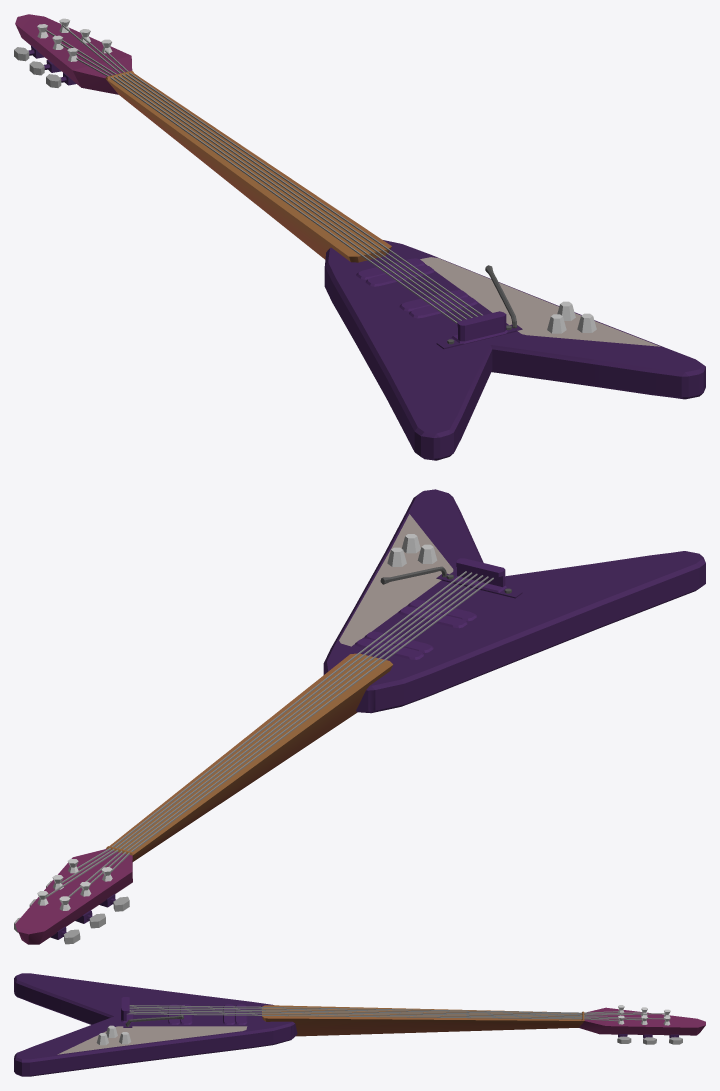
The model's file is Electric Guitar Arrow Black.obj.
The picture shows the model from 3 angles, top to bottom: view 1: azimuth 30°, elevation 25°; view 2: azimuth 150°, elevation 25°; view 3: azimuth 270°, elevation 25°; orthographic projection. The views are drawn at different scales.
Parts seen in each view (by area): view 1: Electric Guitar Arrow Black; view 2: Electric Guitar Arrow Black; view 3: Electric Guitar Arrow Black.
Boxes of the visible parts, box(x1,y1,x2,y2) form: Electric Guitar Arrow Black: box(14, 14, 705, 460); Electric Guitar Arrow Black: box(14, 489, 705, 944); Electric Guitar Arrow Black: box(14, 973, 705, 1076).
Bounding box in the file's own units: 0.3846 × 0.0762 × 1.27.
